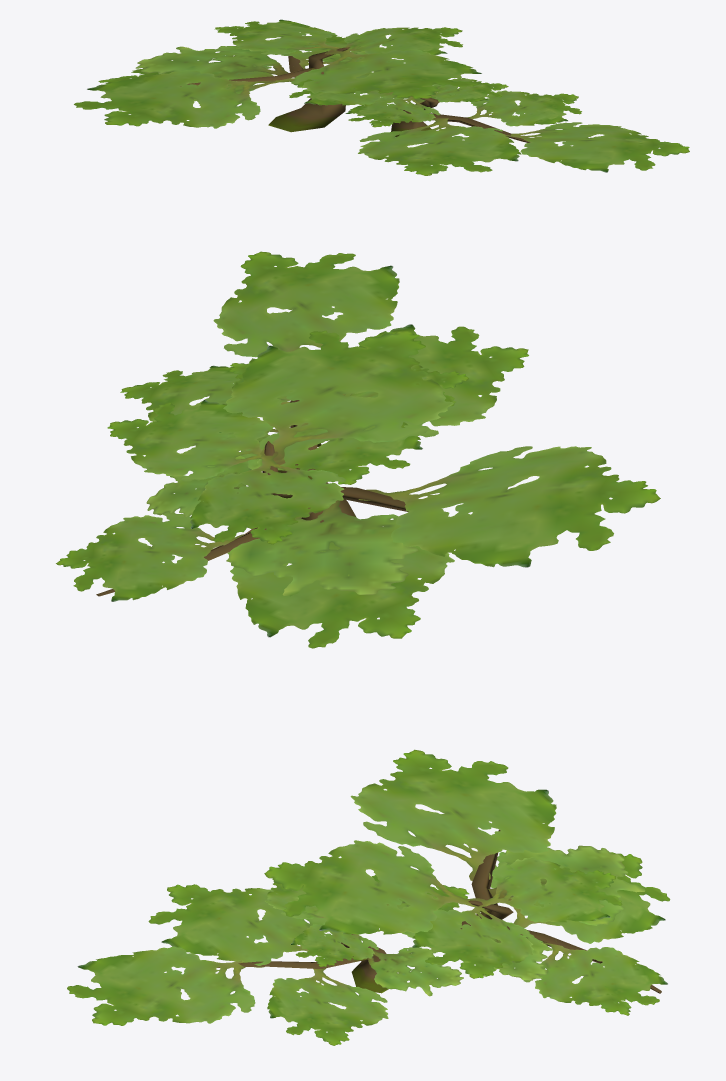
The model's file is liemo_plant_07 (5) #46160130.fbx.
The picture shows the model from 3 angles, top to bottom: view 1: azimuth 30°, elevation 25°; view 2: azimuth 150°, elevation 25°; view 3: azimuth 270°, elevation 25°; orthographic projection. The views are drawn at different scales.
Visible parts, largest first — view 1: liemo_plant_07 (5); view 2: liemo_plant_07 (5); view 3: liemo_plant_07 (5).
Part boxes in pixels (x1,y1,x2,y2): liemo_plant_07 (5): (74,19,689,175); liemo_plant_07 (5): (56,251,660,648); liemo_plant_07 (5): (67,749,670,1045).
Size of the model in its own units: 9.03 by 1.41 by 8.77.
